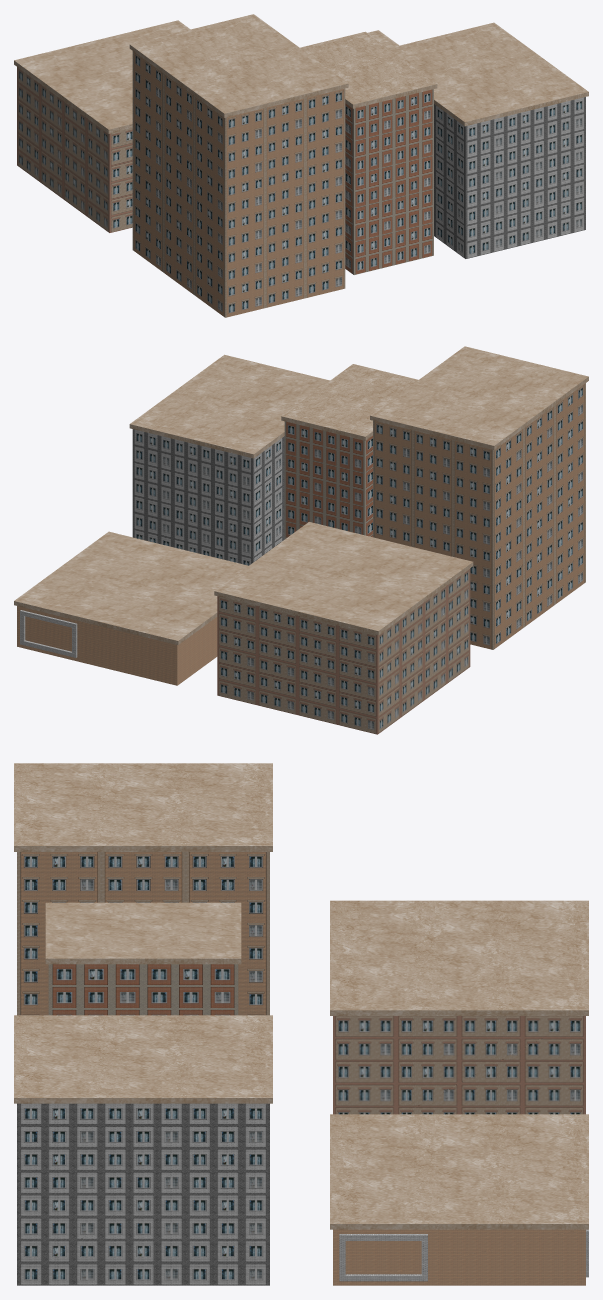
Rendered from SquareBlock-Cinema.obj.
The picture shows the model from 3 angles, top to bottom: view 1: azimuth 30°, elevation 25°; view 2: azimuth 150°, elevation 25°; view 3: azimuth 270°, elevation 25°; orthographic projection. The views are drawn at different scales.
Visible parts, largest first — view 1: Box014, Box016, Box015, Box017, Box013, Box010, Box008, Box009; view 2: Box014, Box013, Box016, Box008, Box011, Box017, Box010, Box015, Box012, Box009, Plane002; view 3: Box016, Box008, Box011, Box013, Box010, Box017, Box014, Box012, Box009, Box015, Plane004.
Part boxes in pixels (x1,y1,x2,y2): Box014: [132, 51, 345, 317]; Box016: [434, 97, 585, 258]; Box015: [345, 89, 433, 274]; Box017: [129, 14, 348, 117]; Box013: [17, 67, 132, 232]; Box010: [389, 22, 588, 126]; Box008: [14, 20, 190, 133]; Box009: [300, 31, 437, 108]; Box014: [373, 383, 585, 649]; Box013: [217, 568, 470, 734]; Box016: [132, 429, 284, 565]; Box008: [214, 522, 473, 635]; Box011: [14, 531, 248, 644]; Box017: [370, 346, 588, 449]; Box010: [129, 354, 329, 458]; Box015: [284, 421, 372, 539]; Box012: [17, 606, 217, 685]; Box009: [281, 364, 418, 440]; Plane002: [20, 610, 77, 657]; Box016: [17, 1103, 269, 1285]; Box008: [330, 900, 588, 1015]; Box011: [330, 1114, 588, 1229]; Box013: [333, 1016, 585, 1114]; Box010: [14, 1015, 272, 1103]; Box017: [14, 763, 272, 851]; Box014: [17, 852, 269, 1015]; Box012: [333, 1229, 585, 1285]; Box009: [45, 902, 241, 964]; Box015: [48, 964, 238, 1015]; Plane004: [339, 1234, 427, 1281].
Bounding box in the file's own units: 91 × 49 × 91.
